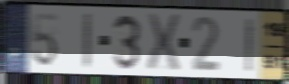2: (189, 15, 221, 73)
3: (111, 12, 142, 72)
5: (32, 11, 60, 68)
I: (244, 16, 256, 74), (82, 11, 93, 71)
X: (145, 12, 181, 74)
